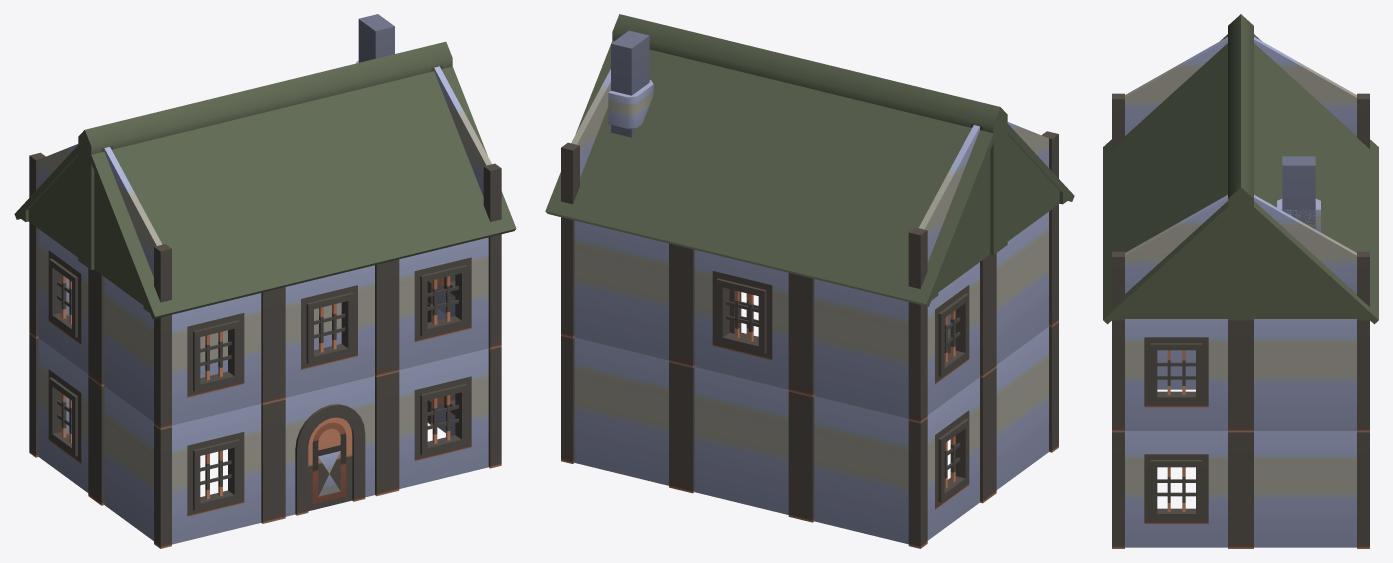
The model's file is maison-elcres-1.glb.
The picture shows the model from 3 angles, left to right: view 1: azimuth 30°, elevation 25°; view 2: azimuth 150°, elevation 25°; view 3: azimuth 270°, elevation 25°; orthographic projection. The views are drawn at different scales.
Parts seen in each view (by area): view 1: wall-window-shutters, roof-high; view 2: wall-window-shutters, roof-high; view 3: wall-window-shutters, roof-high.
Part boxes in pixels (x1=…): wall-window-shutters: x1=29, y1=14, x2=501, y2=548; roof-high: x1=14, y1=41, x2=516, y2=319; wall-window-shutters: x1=561, y1=30, x2=1058, y2=548; roof-high: x1=545, y1=14, x2=1074, y2=306; wall-window-shutters: x1=1112, y1=37, x2=1369, y2=548; roof-high: x1=1103, y1=14, x2=1378, y2=324.
Bounding box in the file's own units: 9.54 × 9.6 × 6.42.
2 materials, 1 textured.
